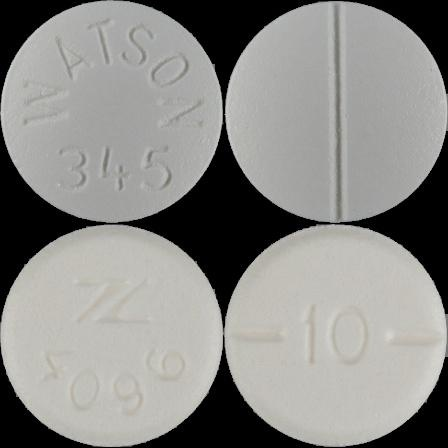0904-2924: (0, 0, 224, 224)
